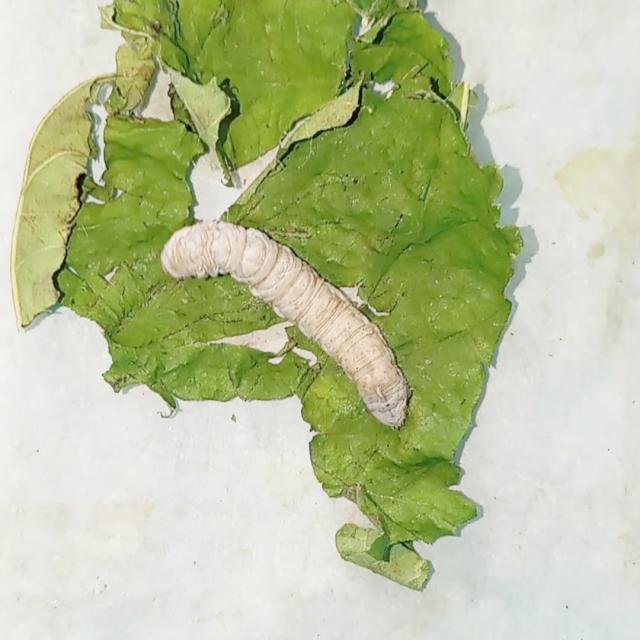Grasserie: (146, 182, 466, 449)
